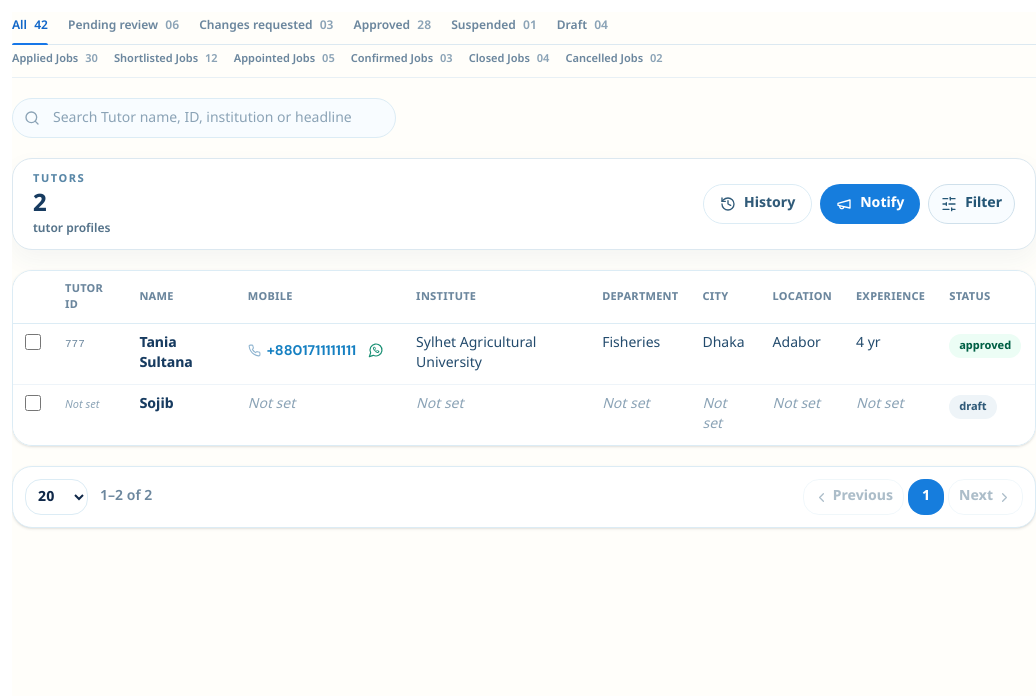
the card and filter panel over the Tutors › keeps Apply waiting while a range is the wrong way round
Click the button "Filter" at (972, 204), box [928,184,1015,224]
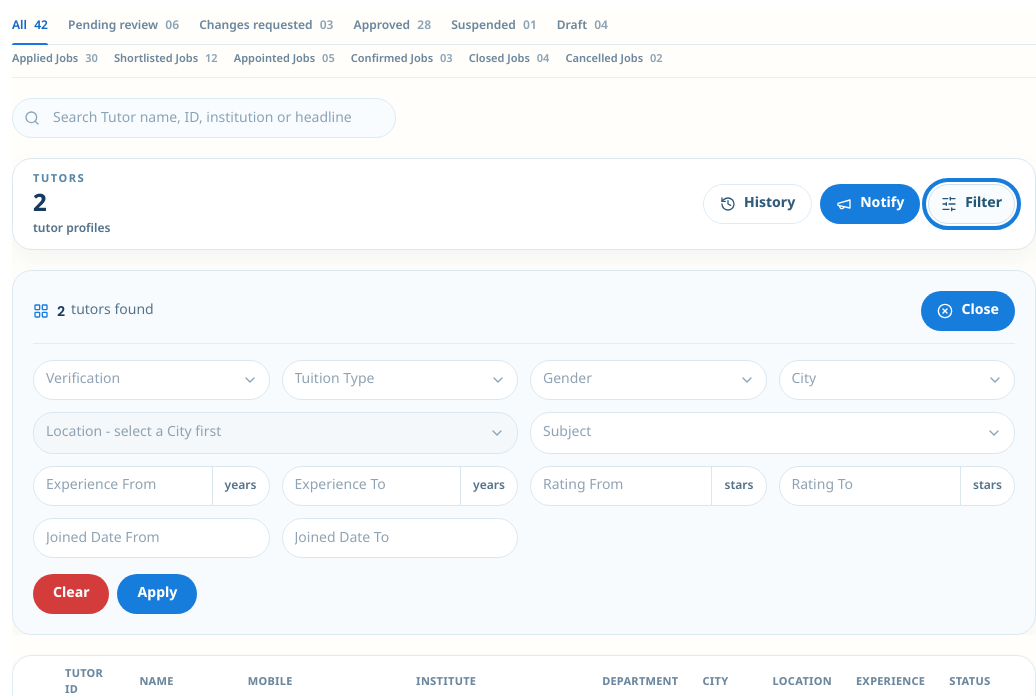
Type "9" into the field labelled "Experience From" at (123, 486), box [34,467,212,505]
Type "2" into the field labelled "Experience To" at (371, 486), box [282,467,460,505]
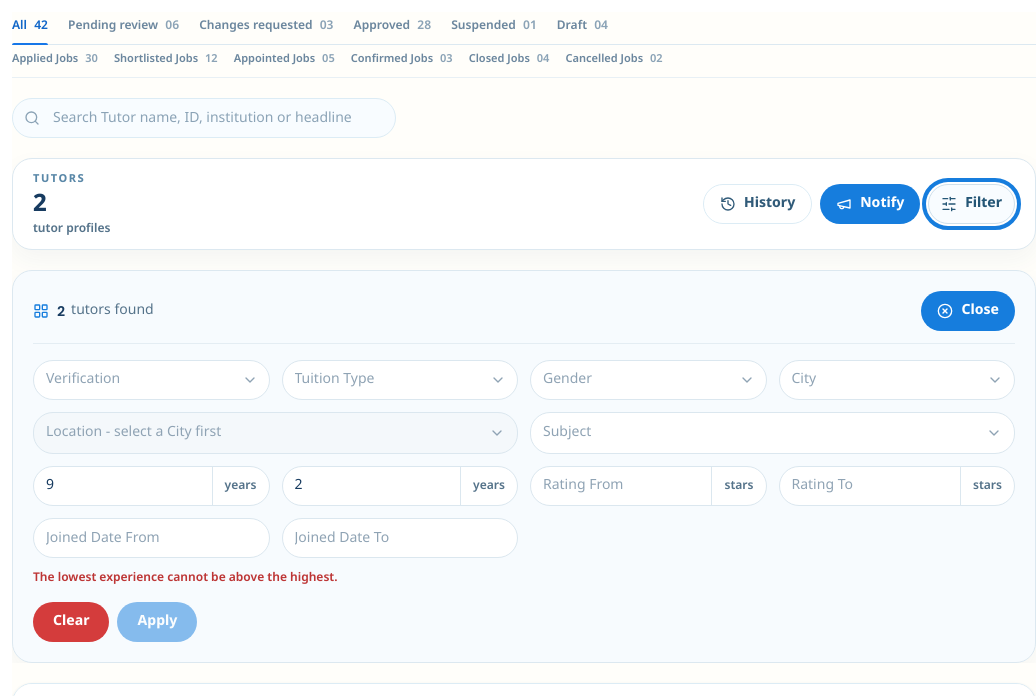
Type "5" into the field labelled "Rating From" at (621, 486), box [531,467,712,505]
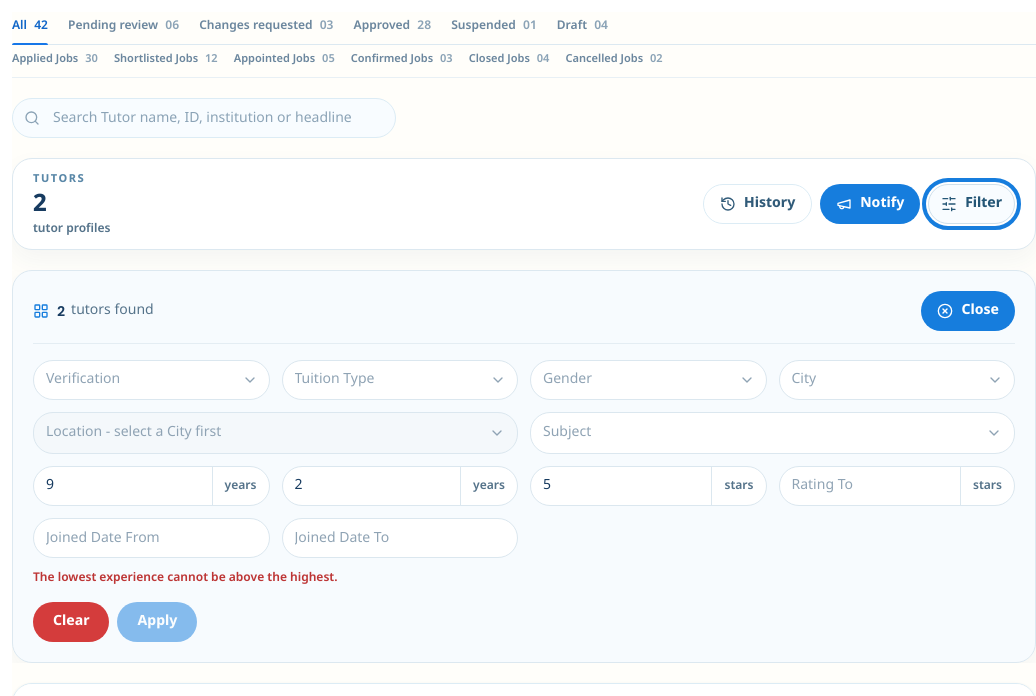
Type "3.5" into the field labelled "Rating To" at (870, 486), box [780,467,960,505]
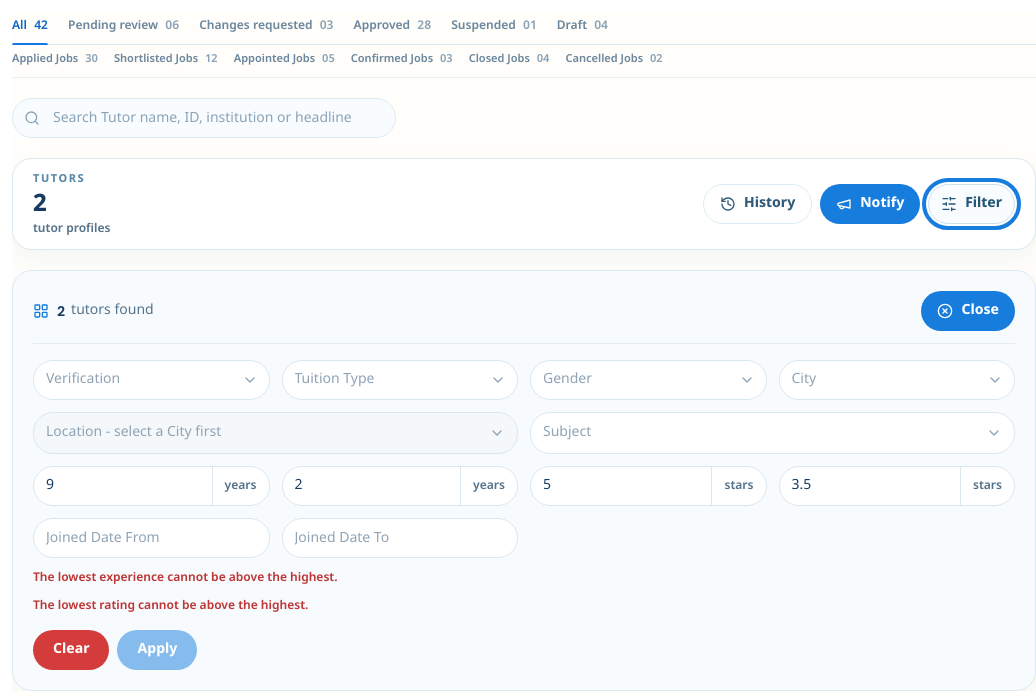
Check: the text "The lowest experience cannot be above the highest." is shown, box [33,570,338,586]
Check: the button "Apply" is disabled, box [118,630,197,670]
Check: the text "The lowest rating cannot be above the highest." is shown, box [33,598,308,614]
Replace the text in the field named "Experience To" with "12" at (371, 486), box [282,467,460,505]
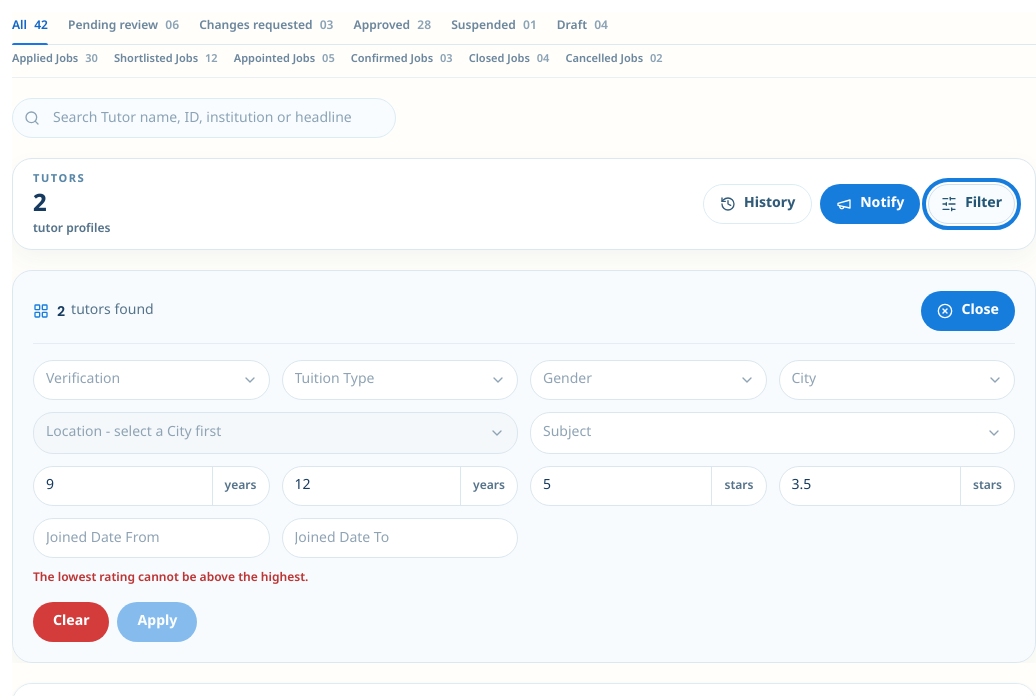
Replace the text in the field named "Rating To" with "5" at (870, 486), box [780,467,960,505]
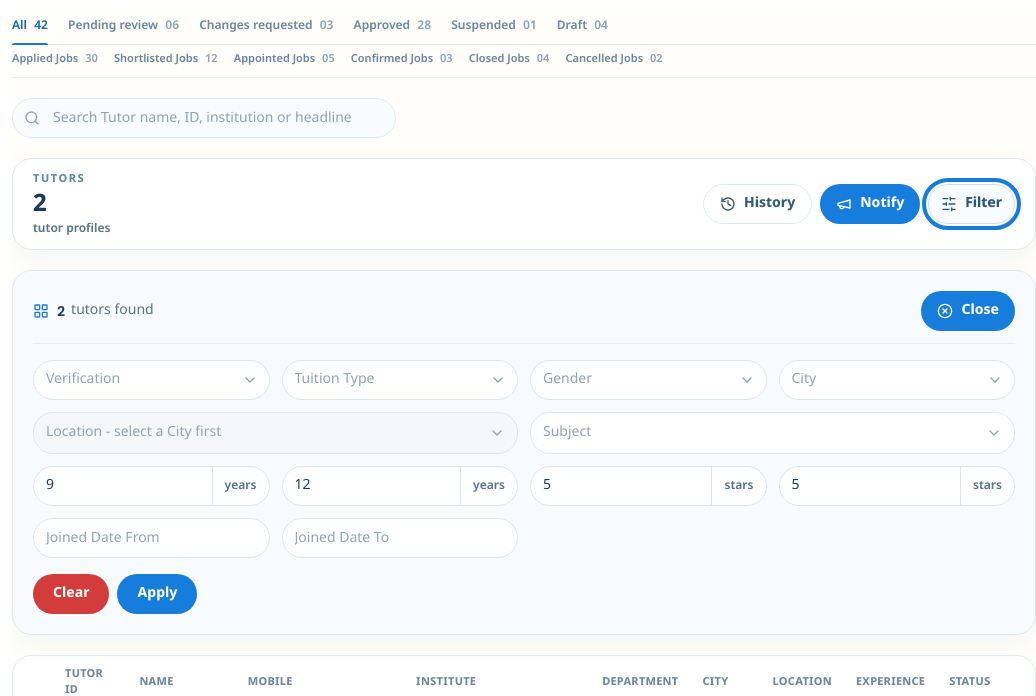
Check: the button "Apply" is enabled, box [118,574,197,614]
